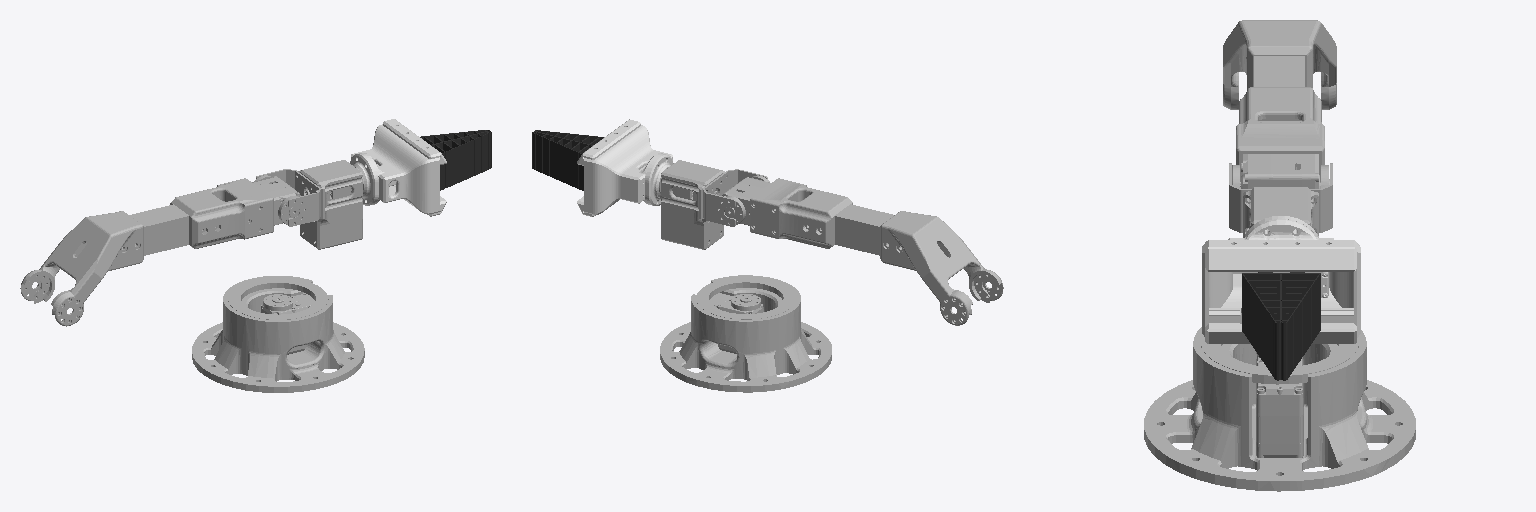
robot.urdf — robotarm:
<?xml version="1.0" encoding="utf-8"?>
<!-- This URDF was automatically created by SolidWorks to URDF Exporter! Originally created by Stephen Brawner (brawner@gmail.com) 
     Commit Version: 1.6.0-4-g7f85cfe  Build Version: 1.6.7995.38578
     For more information, please see http://wiki.ros.org/sw_urdf_exporter -->
<robot
  name="robotarm">
  <link
    name="base_link">
    <inertial>
      <origin
        xyz="-0.0021617 3.2167E-06 0.025888"
        rpy="0 0 0" />
      <mass
        value="0.49164" />
      <inertia
        ixx="0.00072844"
        ixy="-5.3735E-10"
        ixz="1.7051E-05"
        iyy="0.00071827"
        iyz="-2.0927E-09"
        izz="0.0011362" />
    </inertial>
    <visual>
      <origin
        xyz="0 0 0"
        rpy="0 0 0" />
      <geometry>
        <mesh
          filename="package://robotarm_description/meshes/base_link.STL" />
      </geometry>
      <material
        name="">
        <color
          rgba="0.75294 0.75294 0.75294 1" />
      </material>
    </visual>
    <collision>
      <origin
        xyz="0 0 0"
        rpy="0 0 0" />
      <geometry>
        <mesh
          filename="package://robotarm_description/meshes/base_link.STL" />
      </geometry>
    </collision>
  </link>
  <link
    name="link_1">
    <inertial>
      <origin
        xyz="4.934E-05 -0.00025879 0.022977"
        rpy="0 0 0" />
      <mass
        value="0.25792" />
      <inertia
        ixx="0.00016866"
        ixy="-1.8499E-10"
        ixz="-7.6131E-09"
        iyy="0.00018148"
        iyz="1.65E-07"
        izz="0.00027543" />
    </inertial>
    <visual>
      <origin
        xyz="0 0 0"
        rpy="0 0 0" />
      <geometry>
        <mesh
          filename="package://robotarm_description/meshes/link_1.STL" />
      </geometry>
      <material
        name="">
        <color
          rgba="0.75294 0.75294 0.75294 1" />
      </material>
    </visual>
    <collision>
      <origin
        xyz="0 0 0"
        rpy="0 0 0" />
      <geometry>
        <mesh
          filename="package://robotarm_description/meshes/link_1.STL" />
      </geometry>
    </collision>
  </link>
  <joint
    name="joint_1"
    type="revolute">
    <origin
      xyz="0 0 0.0632"
      rpy="0 0 0" />
    <parent
      link="base_link" />
    <child
      link="link_1" />
    <axis
      xyz="0 0 -1" />
    <limit
      lower="-1.571"
      upper="1.571"
      effort="8.33"
      velocity="1" />
  </joint>
  <link
    name="link_2">
    <inertial>
      <origin
        xyz="-0.14821 -0.035621 -0.00028824"
        rpy="0 0 0" />
      <mass
        value="0.26072" />
      <inertia
        ixx="0.00011686"
        ixy="7.5116E-08"
        ixz="-2.4827E-07"
        iyy="0.00020757"
        iyz="-1.5576E-09"
        izz="0.00024756" />
    </inertial>
    <visual>
      <origin
        xyz="0 0 0"
        rpy="0 0 0" />
      <geometry>
        <mesh
          filename="package://robotarm_description/meshes/link_2.STL" />
      </geometry>
      <material
        name="">
        <color
          rgba="0.75294 0.75294 0.75294 1" />
      </material>
    </visual>
    <collision>
      <origin
        xyz="0 0 0"
        rpy="0 0 0" />
      <geometry>
        <mesh
          filename="package://robotarm_description/meshes/link_2.STL" />
      </geometry>
    </collision>
  </link>
  <joint
    name="joint_2"
    type="revolute">
    <origin
      xyz="0.0002 0.03575 0.062"
      rpy="0 0 0" />
    <parent
      link="link_1" />
    <child
      link="link_2" />
    <axis
      xyz="0 1 0" />
    <limit
      lower="0"
      upper="3.142"
      effort="15.7"
      velocity="1" />
  </joint>
  <link
    name="link_3">
    <inertial>
      <origin
        xyz="0.14678 -0.035556 0.042761"
        rpy="0 0 0" />
      <mass
        value="0.24699" />
      <inertia
        ixx="0.00012565"
        ixy="3.4941E-08"
        ixz="-2.5179E-05"
        iyy="0.00020183"
        iyz="-3.9334E-09"
        izz="0.00022595" />
    </inertial>
    <visual>
      <origin
        xyz="0 0 0"
        rpy="0 0 0" />
      <geometry>
        <mesh
          filename="package://robotarm_description/meshes/link_3.STL" />
      </geometry>
      <material
        name="">
        <color
          rgba="0.75294 0.75294 0.75294 1" />
      </material>
    </visual>
    <collision>
      <origin
        xyz="0 0 0"
        rpy="0 0 0" />
      <geometry>
        <mesh
          filename="package://robotarm_description/meshes/link_3.STL" />
      </geometry>
    </collision>
  </link>
  <joint
    name="joint_3"
    type="revolute">
    <origin
      xyz="-0.26 5E-05 -0.00025"
      rpy="0 0 0" />
    <parent
      link="link_2" />
    <child
      link="link_3" />
    <axis
      xyz="0 -1 0" />
    <limit
      lower="0"
      upper="3.142"
      effort="15.7"
      velocity="1" />
  </joint>
  <link
    name="link_4">
    <inertial>
      <origin
        xyz="0.052835 -0.032615 -0.016642"
        rpy="0 0 0" />
      <mass
        value="0.13001" />
      <inertia
        ixx="7.9678E-05"
        ixy="-1.8435E-09"
        ixz="2.4138E-07"
        iyy="6.6322E-05"
        iyz="-1.2533E-09"
        izz="5.306E-05" />
    </inertial>
    <visual>
      <origin
        xyz="0 0 0"
        rpy="0 0 0" />
      <geometry>
        <mesh
          filename="package://robotarm_description/meshes/link_4.STL" />
      </geometry>
      <material
        name="">
        <color
          rgba="0.75294 0.75294 0.75294 1" />
      </material>
    </visual>
    <collision>
      <origin
        xyz="0 0 0"
        rpy="0 0 0" />
      <geometry>
        <mesh
          filename="package://robotarm_description/meshes/link_4.STL" />
      </geometry>
    </collision>
  </link>
  <joint
    name="joint_4"
    type="revolute">
    <origin
      xyz="0.2602 -0.00245 0.046362"
      rpy="0 0 0" />
    <parent
      link="link_3" />
    <child
      link="link_4" />
    <axis
      xyz="0 1 0" />
    <limit
      lower="-1.571"
      upper="1.571"
      effort="8.34"
      velocity="1" />
  </joint>
  <link
    name="link_5">
    <inertial>
      <origin
        xyz="0.041261 0.0018859 5.2776E-06"
        rpy="0 0 0" />
      <mass
        value="0.14243" />
      <inertia
        ixx="0.00011598"
        ixy="2.5311E-07"
        ixz="6.9458E-10"
        iyy="5.3508E-05"
        iyz="-3.2934E-09"
        izz="0.00010923" />
    </inertial>
    <visual>
      <origin
        xyz="0 0 0"
        rpy="0 0 0" />
      <geometry>
        <mesh
          filename="package://robotarm_description/meshes/link_5.STL" />
      </geometry>
      <material
        name="">
        <color
          rgba="0.89412 0.89412 0.89412 1" />
      </material>
    </visual>
    <collision>
      <origin
        xyz="0 0 0"
        rpy="0 0 0" />
      <geometry>
        <mesh
          filename="package://robotarm_description/meshes/link_5.STL" />
      </geometry>
    </collision>
  </link>
  <joint
    name="joint_5"
    type="revolute">
    <origin
      xyz="0.0947 -0.03245 -0.0003"
      rpy="0 0 0" />
    <parent
      link="link_4" />
    <child
      link="link_5" />
    <axis
      xyz="1 0 0" />
    <limit
      lower="-1.571"
      upper="1.571"
      effort="8.34"
      velocity="1" />
  </joint>

  <!-- Minimal TCP link (zero mass, small collision box) -->
  <link name="tcp_link">
    <inertial>
      <mass value="0.001" />  <!-- Near-zero mass -->
      <inertia ixx="1e-6" ixy="0" ixz="0" iyy="1e-6" iyz="0" izz="1e-6" />
    </inertial>
    <visual>
      <geometry><box size="0.0001 0.0001 0.0001"/></geometry>  <!-- Tiny -->
    </visual>
    <!-- <collision>
      <geometry><box size="0.0001 0.0001 0.0001"/></geometry>
    </collision> -->
  </link>
  
  <!-- TCP Joint -->
  <joint name="tcp_joint" type="revolute">
    <origin xyz="0.12 0 0" rpy="0 0 0" />
    <parent link="link_5" />
    <child link="tcp_link" />  <!-- Child is now tcp_link -->
    <axis xyz="0 0 1" />
    <limit lower="-1.57" upper="1.57" effort="8.33" velocity="1" />
  </joint>

  <link
    name="link_6">
    <inertial>
      <origin
        xyz="0.02487 0.008464 0.02"
        rpy="0 0 0" />
      <mass
        value="0.012327" />
      <inertia
        ixx="2.0823E-06"
        ixy="7.4626E-07"
        ixz="5.5609E-12"
        iyy="8.611E-06"
        iyz="-6.6849E-13"
        izz="7.4736E-06" />
    </inertial>
    <visual>
      <origin
        xyz="0 0 0"
        rpy="0 0 0" />
      <geometry>
        <mesh
          filename="package://robotarm_description/meshes/link_6.STL" />
      </geometry>
      <material
        name="">
        <color
          rgba="0.25098 0.25098 0.25098 1" />
      </material>
    </visual>
    <collision>
      <origin
        xyz="0 0 0"
        rpy="0 0 0" />
      <geometry>
        <mesh
          filename="package://robotarm_description/meshes/link_6.STL" />
      </geometry>
    </collision>
  </link>
  <joint
    name="joint_6"
    type="prismatic">
    <origin
      xyz="0.072 0 -0.02"
      rpy="0 0 0" />
    <parent
      link="link_5" />
    <child
      link="link_6" />
    <axis
      xyz="0 1 0" />
    <limit
      lower="0"
      upper="0.04"
      effort="3.34"
      velocity="1" />
    <mimic
      joint="joint_7"
      multiplier="-1"
      offset="0" />
  </joint>
  <link
    name="link_7">
    <inertial>
      <origin
        xyz="0.02487 -0.008584 0.02"
        rpy="0 0 0" />
      <mass
        value="0.012327" />
      <inertia
        ixx="2.0823E-06"
        ixy="-7.4626E-07"
        ixz="-5.5609E-12"
        iyy="8.611E-06"
        iyz="-6.6849E-13"
        izz="7.4736E-06" />
    </inertial>
    <visual>
      <origin
        xyz="0 0 0"
        rpy="0 0 0" />
      <geometry>
        <mesh
          filename="package://robotarm_description/meshes/link_7.STL" />
      </geometry>
      <material
        name="">
        <color
          rgba="0.25098 0.25098 0.25098 1" />
      </material>
    </visual>
    <collision>
      <origin
        xyz="0 0 0"
        rpy="0 0 0" />
      <geometry>
        <mesh
          filename="package://robotarm_description/meshes/link_7.STL" />
      </geometry>
    </collision>
  </link>
  <joint
    name="joint_7"
    type="prismatic">
    <origin
      xyz="0.072 0 -0.02"
      rpy="0 0 0" />
    <parent
      link="link_5" />
    <child
      link="link_7" />
    <axis
      xyz="0 1 0" />
    <limit
      lower="-0.04"
      upper="0"
      effort="3.34"
      velocity="1" />
  </joint>
</robot>

--- Facts derived from the render (not from the file) ---
The picture shows the robot from 3 angles, left to right: view 1: azimuth 30°, elevation 25°; view 2: azimuth 150°, elevation 25°; view 3: azimuth 270°, elevation 25°; orthographic projection.
Robot: robotarm — 9 links, 8 joints (6 revolute, 2 prismatic); root link base_link; default pose: every joint at zero.
Visible links, largest first — view 1: link_3, base_link, link_5, link_4, link_7; view 2: link_3, base_link, link_5, link_4, link_6; view 3: base_link, link_3, link_5, link_4, link_6, link_7.
Link boxes in pixels (x1=…): link_3: x1=20, y1=175, x2=304, y2=326; base_link: x1=192, y1=276, x2=364, y2=392; link_5: x1=350, y1=119, x2=446, y2=216; link_4: x1=256, y1=160, x2=364, y2=249; link_7: x1=431, y1=131, x2=491, y2=190; link_3: x1=719, y1=175, x2=1003, y2=325; base_link: x1=660, y1=275, x2=831, y2=392; link_5: x1=577, y1=119, x2=673, y2=216; link_4: x1=659, y1=160, x2=767, y2=249; link_6: x1=532, y1=131, x2=591, y2=190; base_link: x1=1144, y1=327, x2=1415, y2=491; link_3: x1=1223, y1=20, x2=1336, y2=188; link_5: x1=1202, y1=216, x2=1360, y2=343; link_4: x1=1229, y1=163, x2=1332, y2=237; link_6: x1=1281, y1=272, x2=1320, y2=380; link_7: x1=1242, y1=272, x2=1280, y2=380.
Size in the robot's own frame: 0.5223 by 0.1717 by 0.205 metres.
6 mesh visuals loaded from 8 distinct referenced files (6 binary STL); not drawn: 2 (reference not matched to a file when rendering).
